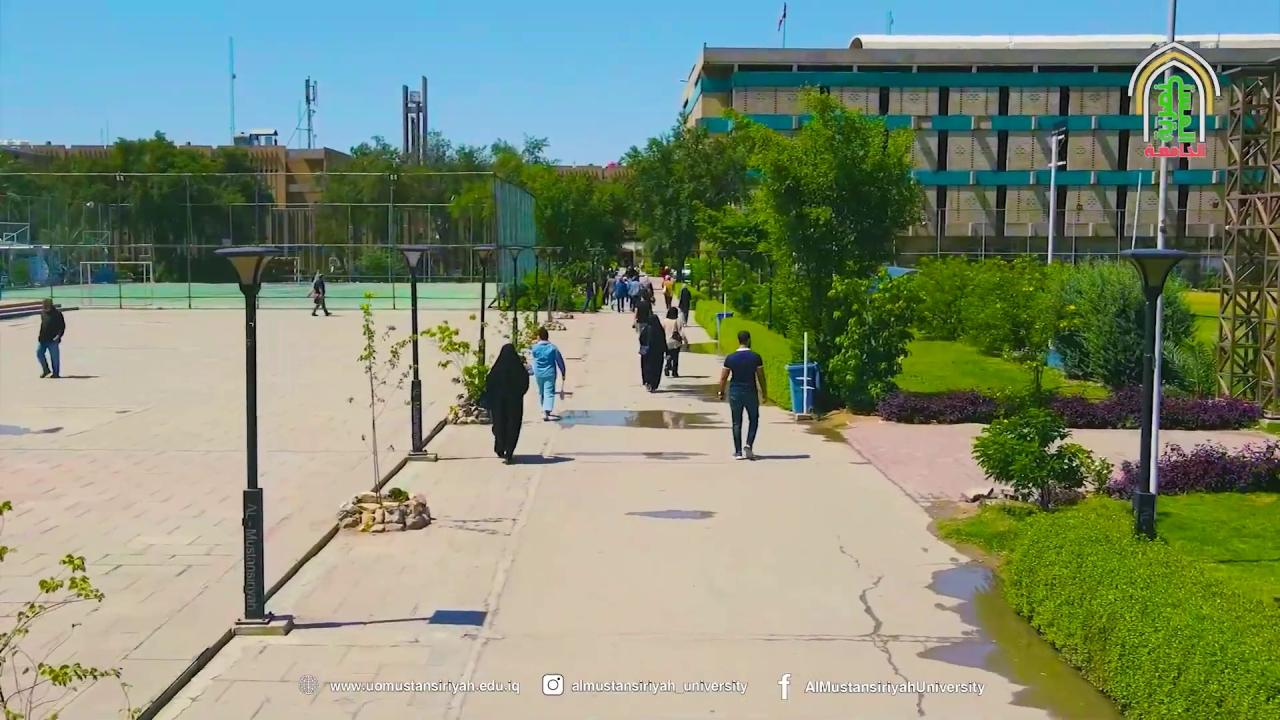person: (718, 330, 768, 460), (481, 343, 529, 463), (530, 326, 565, 421), (36, 297, 65, 378), (638, 313, 667, 392), (661, 306, 684, 377), (309, 271, 332, 316)
tree: (687, 92, 919, 424), (906, 250, 1204, 400), (2, 132, 264, 282), (311, 129, 557, 282), (0, 499, 133, 718), (337, 291, 432, 533), (619, 112, 745, 284), (1052, 256, 1200, 393), (820, 267, 926, 413), (970, 403, 1113, 511), (524, 165, 625, 306), (490, 261, 583, 325)
